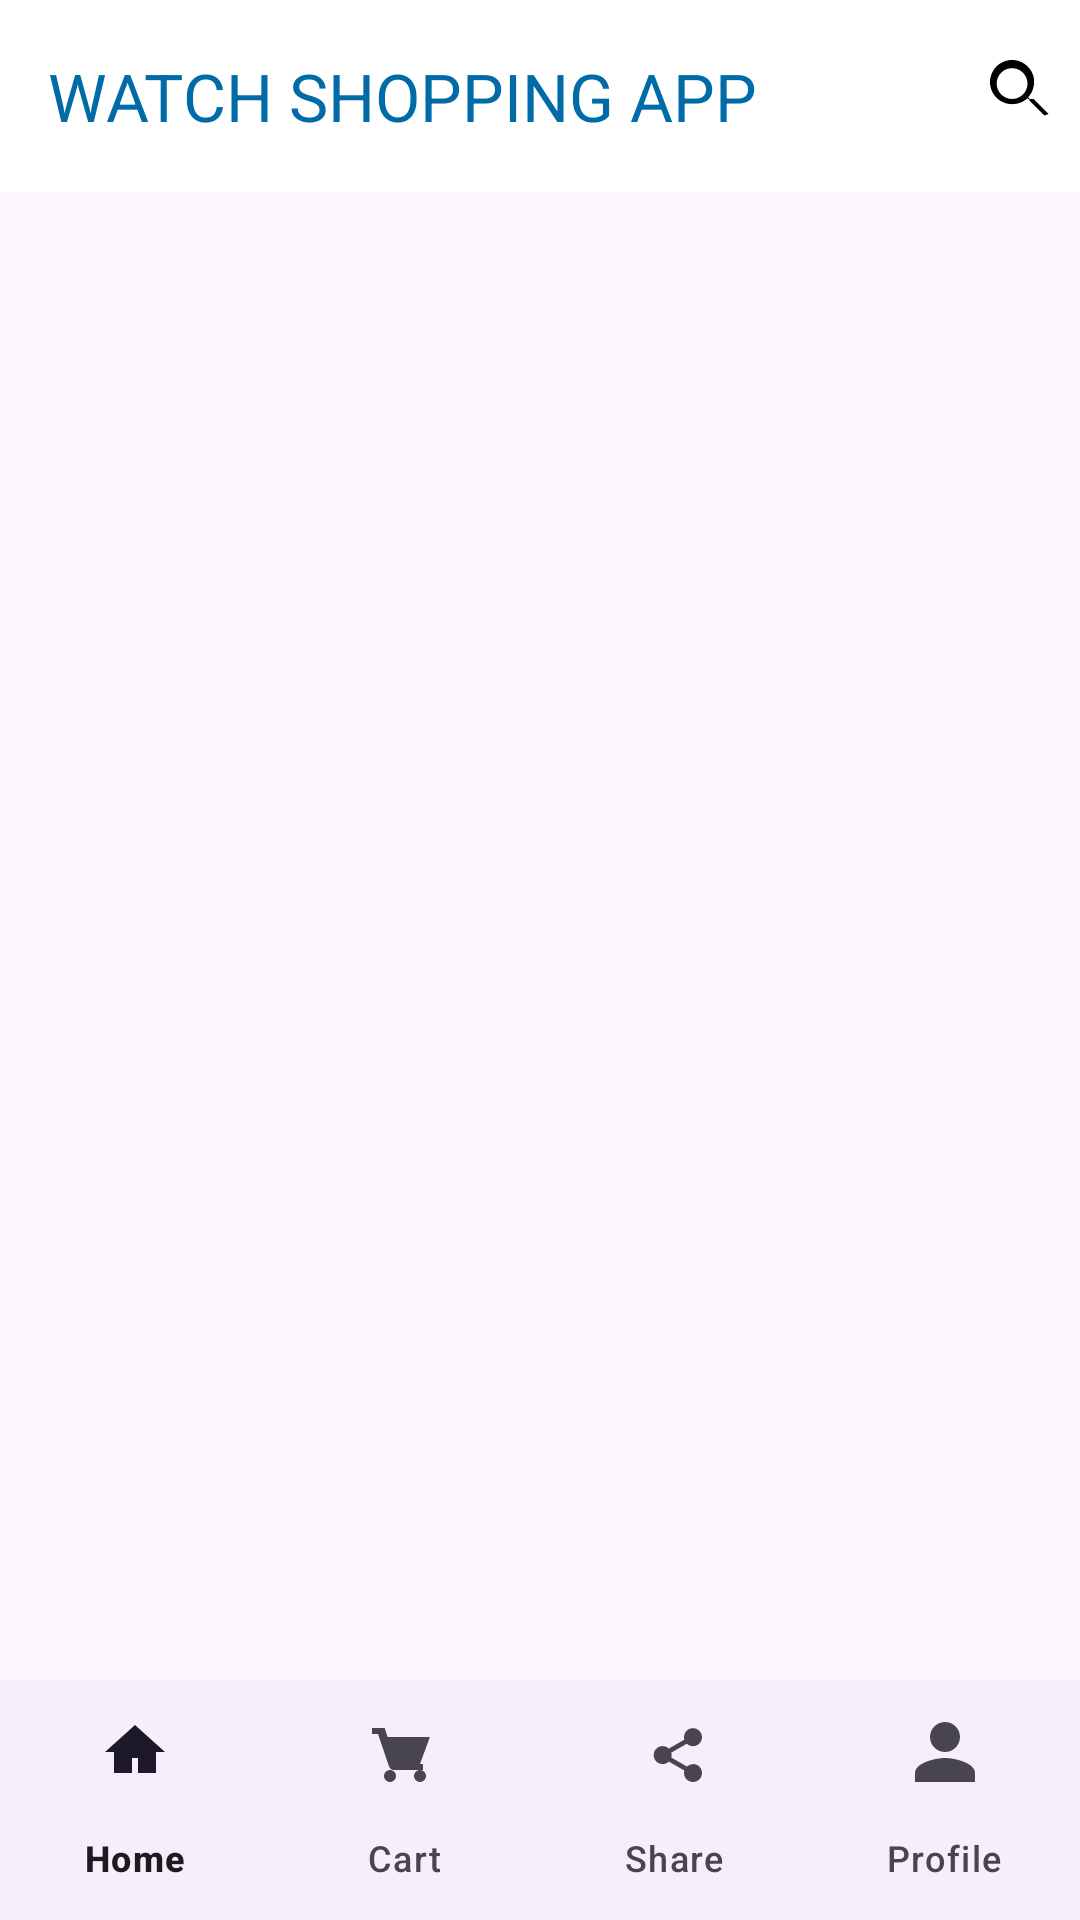

Where icons sit on this 1080px×1920px app screen, as detection(x1, y1, x2, y2):
search: detection(990, 60, 1049, 116)
